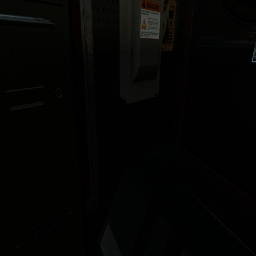EmergencyPhone ,: (161, 0, 176, 51)
SafetySwitchPanel ,: (120, 0, 169, 104)
